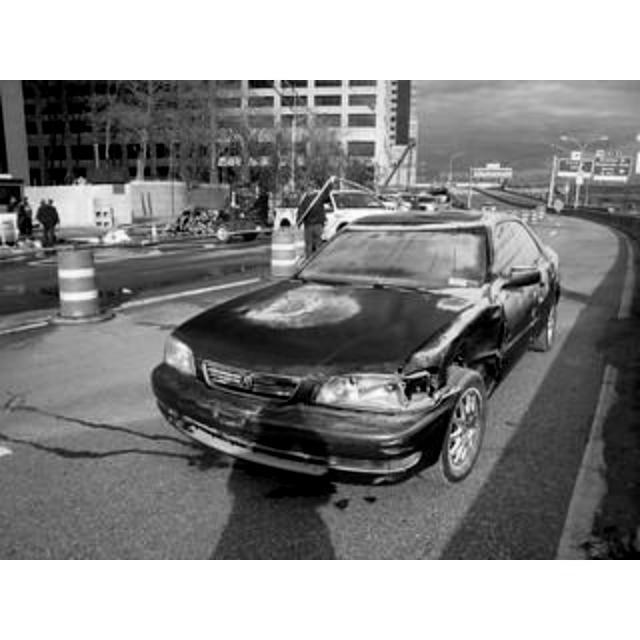bonnet-dent: (234, 272, 404, 376)
